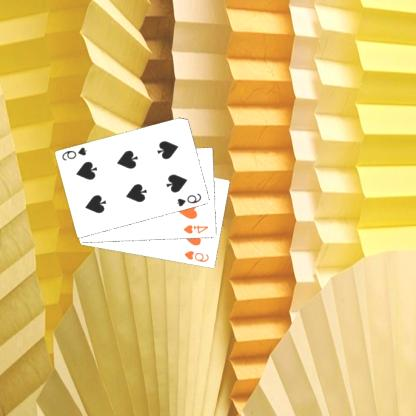4H: (183, 222, 211, 235)
6H: (183, 248, 212, 264)
6S: (61, 144, 90, 162), (176, 190, 204, 208)
